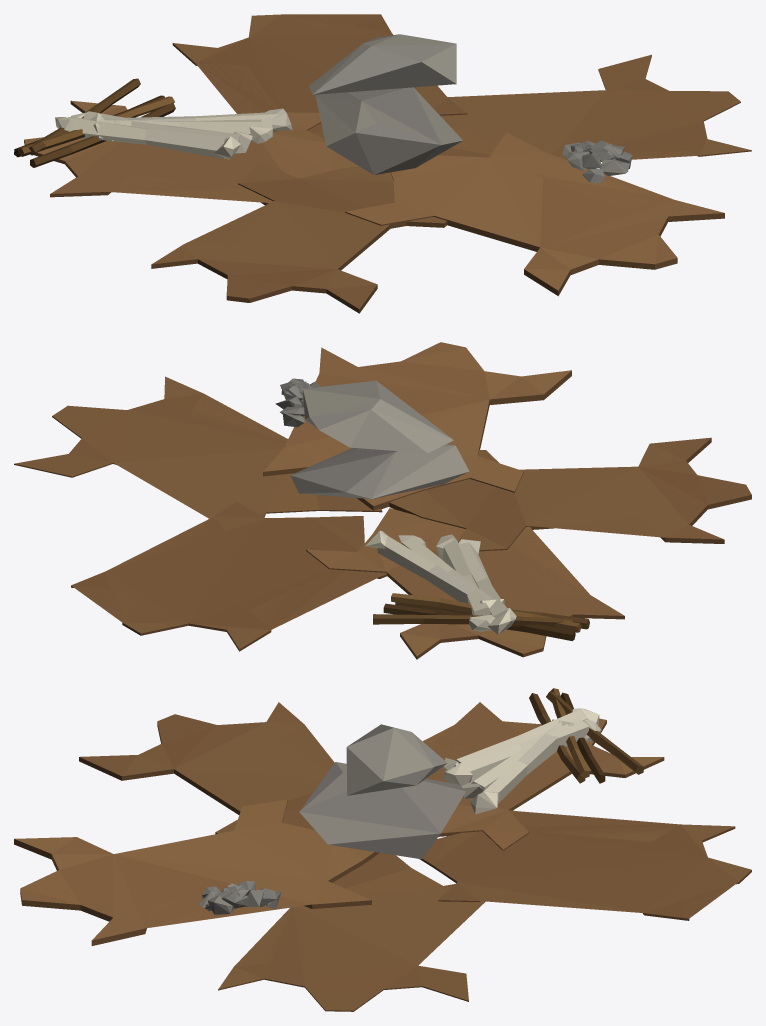
Rendered from stacked_stones_1_base.glb.
3 renders of one model, top to bottom at view 1: azimuth 30°, elevation 25°; view 2: azimuth 150°, elevation 25°; view 3: azimuth 270°, elevation 25°, orthographic. The views are drawn at different scales.
Parts seen in each view (by area): view 1: stacked_stones_1_base; view 2: stacked_stones_1_base; view 3: stacked_stones_1_base.
Boxes of the visible parts, x1,y1,x2,y2 form: stacked_stones_1_base: (14, 14, 751, 313); stacked_stones_1_base: (14, 342, 751, 659); stacked_stones_1_base: (14, 688, 751, 1011).
Size of the model in its own units: 6.94 by 1.23 by 7.07.
